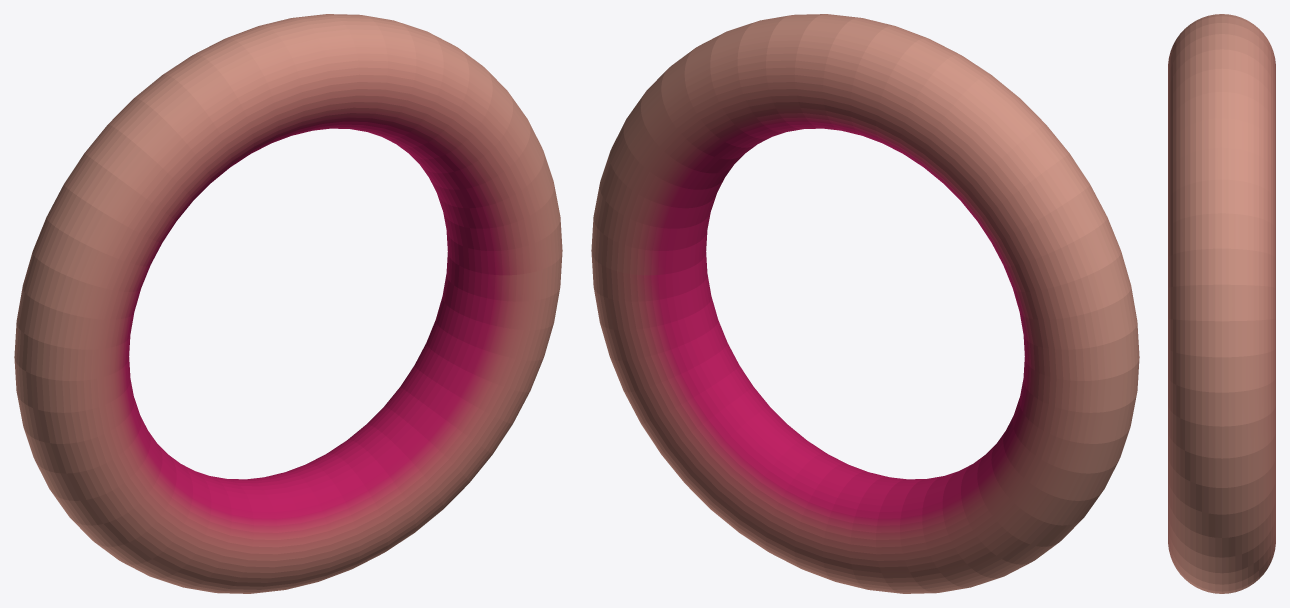
3 renders of one model, left to right at view 1: azimuth 30°, elevation 25°; view 2: azimuth 150°, elevation 25°; view 3: azimuth 270°, elevation 25°, orthographic. The views are drawn at different scales.
Visible parts, largest first — view 1: world; view 2: world; view 3: world.
Part boxes in pixels (x1=…): world: x1=14, y1=14, x2=562, y2=593; world: x1=591, y1=14, x2=1139, y2=593; world: x1=1168, y1=14, x2=1275, y2=593.
Bounding box in the file's own units: 33.6 × 33.53 × 6.25.
